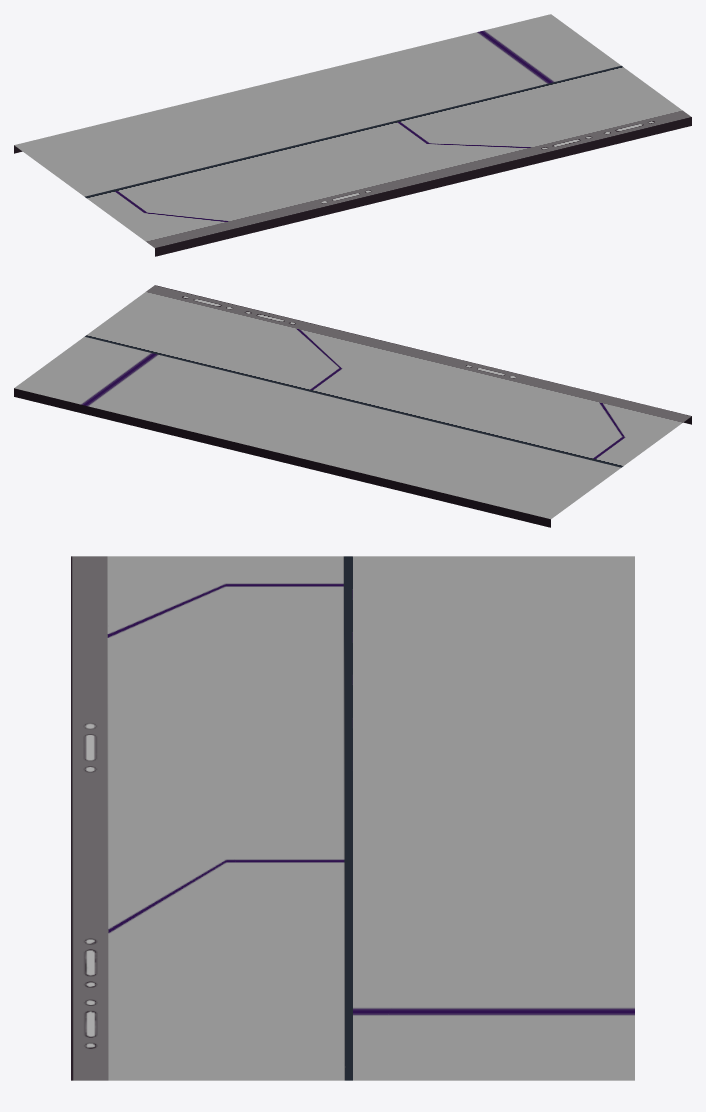
Rendered from KF_SM_LSideW009.fbx.
3 renders of one model, top to bottom at view 1: azimuth 30°, elevation 25°; view 2: azimuth 150°, elevation 25°; view 3: azimuth 270°, elevation 25°, orthographic. The views are drawn at different scales.
Parts seen in each view (by area): view 1: KF_SM_LSideW009; view 2: KF_SM_LSideW009; view 3: KF_SM_LSideW009.
Boxes of the visible parts, box(x1,y1,x2,y2) form: KF_SM_LSideW009: box(14, 14, 691, 256); KF_SM_LSideW009: box(14, 285, 691, 527); KF_SM_LSideW009: box(71, 556, 634, 1080).
Bounding box in the file's own units: 3286 × 50 × 1494.
Materials: 1 (1 with a texture image).
